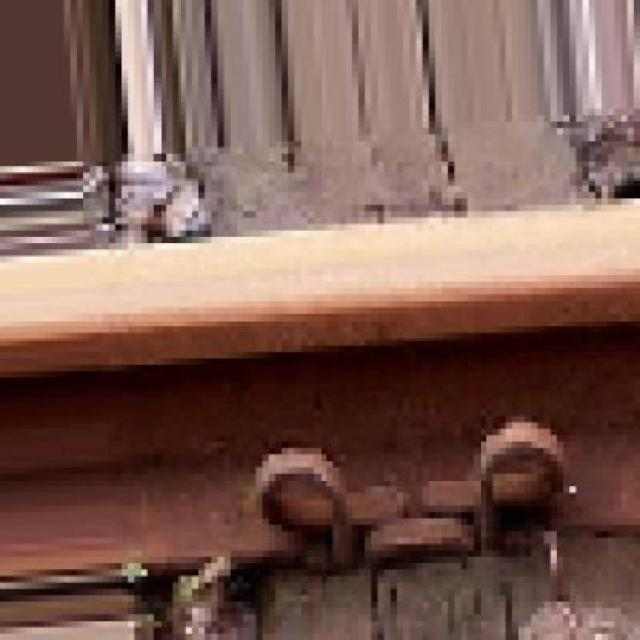defective: (4, 157, 640, 618)
